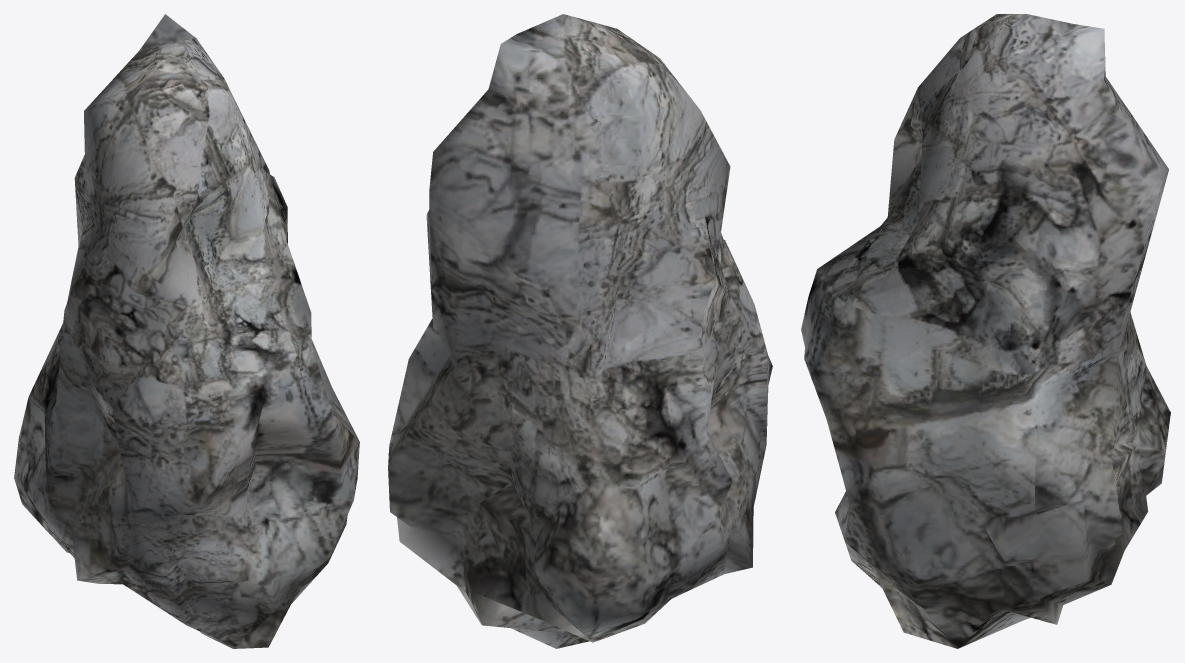
Rendered from asteroid 2 LOD 1.fbx.
The picture shows the model from 3 angles, left to right: view 1: azimuth 30°, elevation 25°; view 2: azimuth 150°, elevation 25°; view 3: azimuth 270°, elevation 25°; orthographic projection. The views are drawn at different scales.
Parts seen in each view (by area): view 1: LP_UV__53310_0; view 2: LP_UV__53310_0; view 3: LP_UV__53310_0.
Part boxes in pixels (x1,y1,x2,y2): LP_UV__53310_0: [14, 14, 359, 648]; LP_UV__53310_0: [388, 14, 772, 648]; LP_UV__53310_0: [801, 14, 1170, 648].
Bounding box in the file's own units: 1.59 × 3.14 × 1.7.
Materials: 1 (1 with a texture image).
